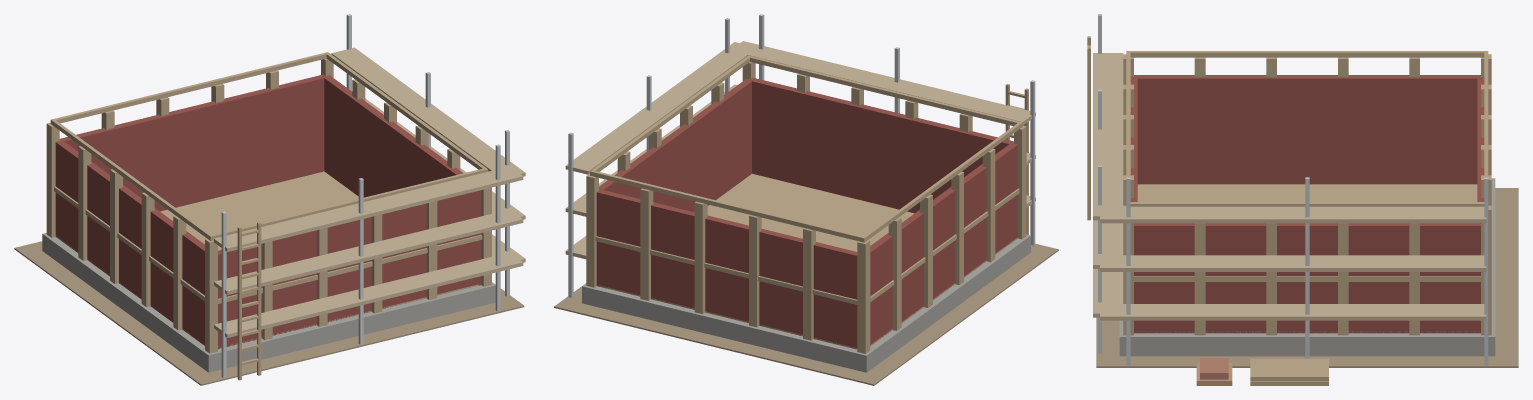
Rendered from barn_site_7.glb.
3 renders of one model, left to right at view 1: azimuth 30°, elevation 25°; view 2: azimuth 150°, elevation 25°; view 3: azimuth 270°, elevation 25°, orthographic. The views are drawn at different scales.
Parts seen in each view (by area): view 1: body; view 2: body; view 3: body.
Part boxes in pixels (x1=…): body: x1=14, y1=14, x2=525, y2=385; body: x1=554, y1=14, x2=1058, y2=385; body: x1=1087, y1=14, x2=1518, y2=385.
Bounding box in the file's own units: 2.6 × 1.16 × 2.41.
